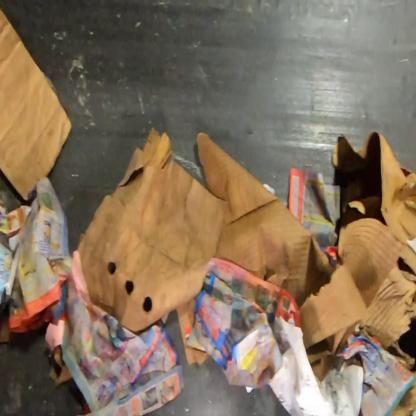cardboard: (196, 131, 416, 384), (75, 126, 230, 367), (0, 6, 74, 202), (331, 129, 415, 246), (48, 344, 73, 388), (387, 377, 415, 415), (0, 308, 11, 344)
